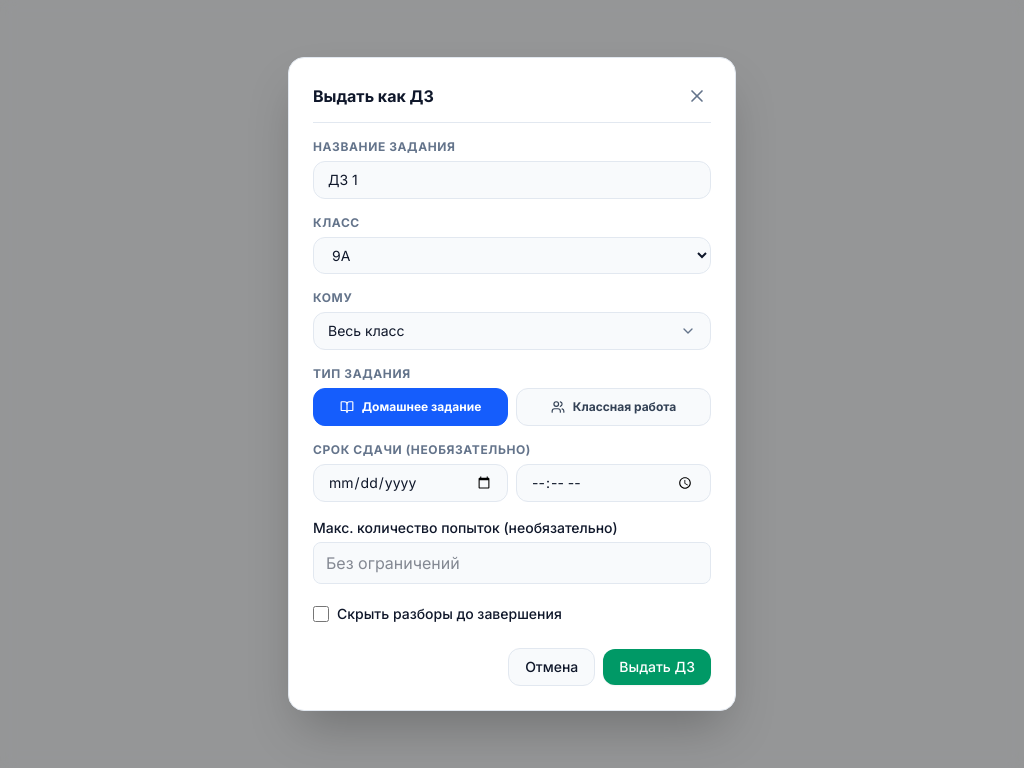
Test: AssignmentCreateModal — выбор получателей («Кому») › чекбокс «Все» снимает и ставит выбор со всех; когда никого не выбрано, кнопка блокируется и видна подсказка
Step 1. Click the button "Весь класс" → [366, 330], box [313,312,711,350]
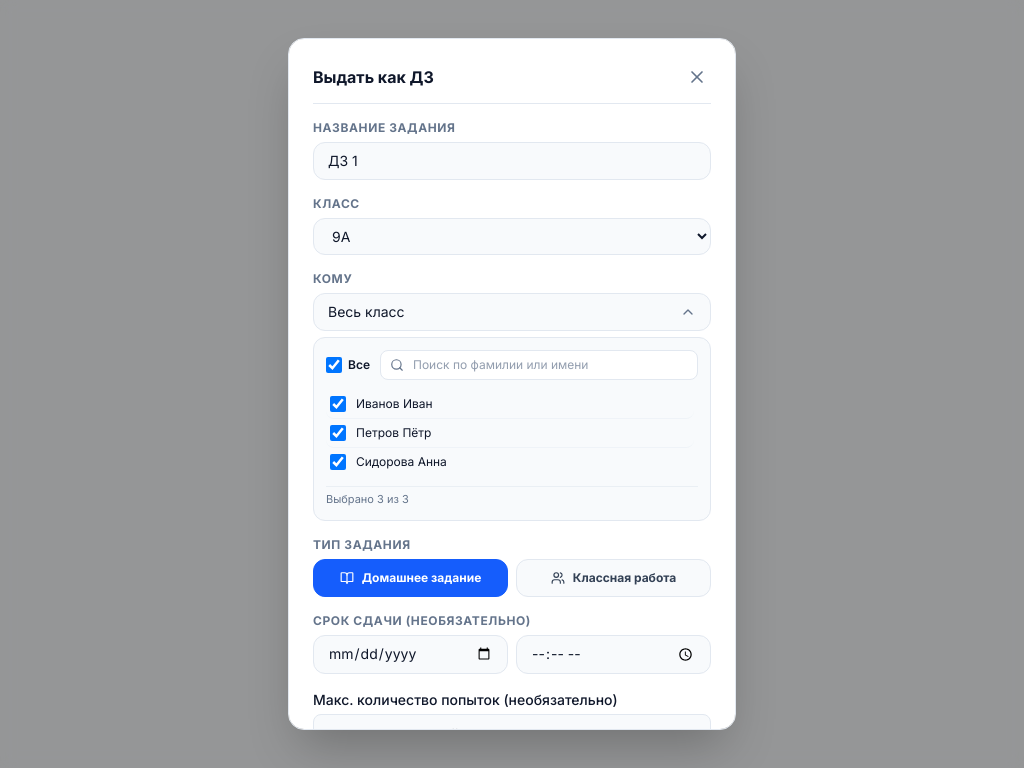
Expected: the checkbox labelled "Все" is checked
Note: Снимаем со всех
Step 2. Click the checkbox labelled "Все" → [334, 365], box [326,357,342,373]
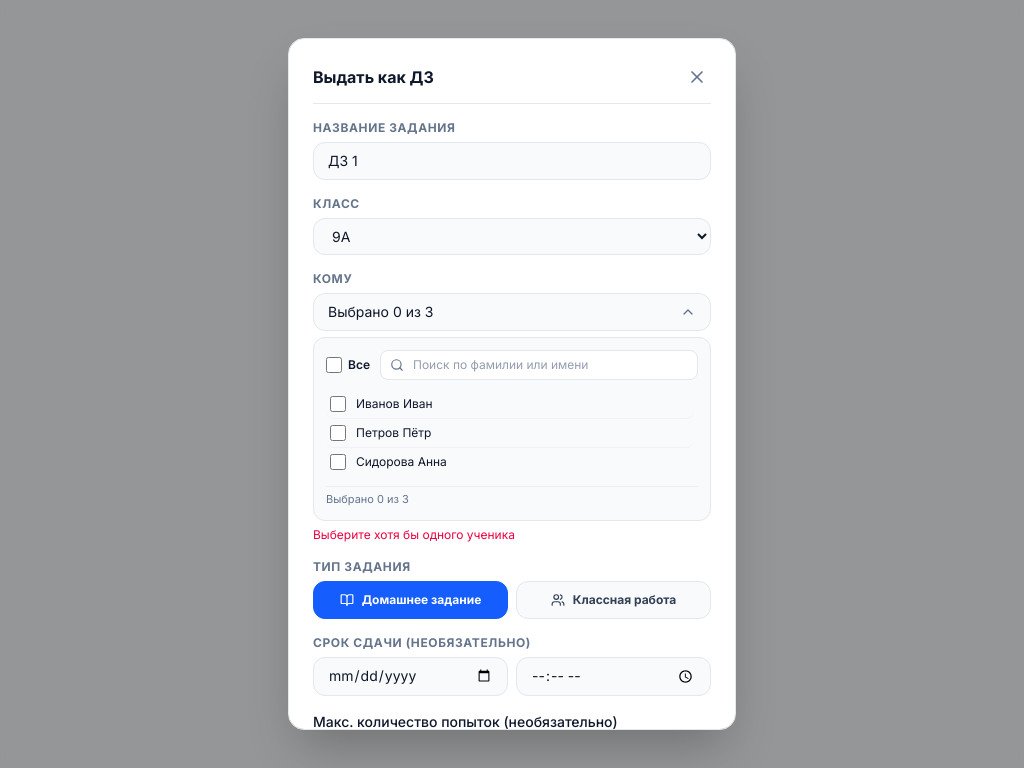
Expected: the checkbox labelled "Все" is not checked
Expected: the checkbox labelled "Иванов Иван" is not checked, [330,396,346,412]
Expected: the checkbox labelled "Петров Пётр" is not checked, [330,425,346,441]
Note: Ставим обратно всем
Step 3. Click the checkbox labelled "Все" → [334, 365], box [326,357,342,373]
(page scrolled)
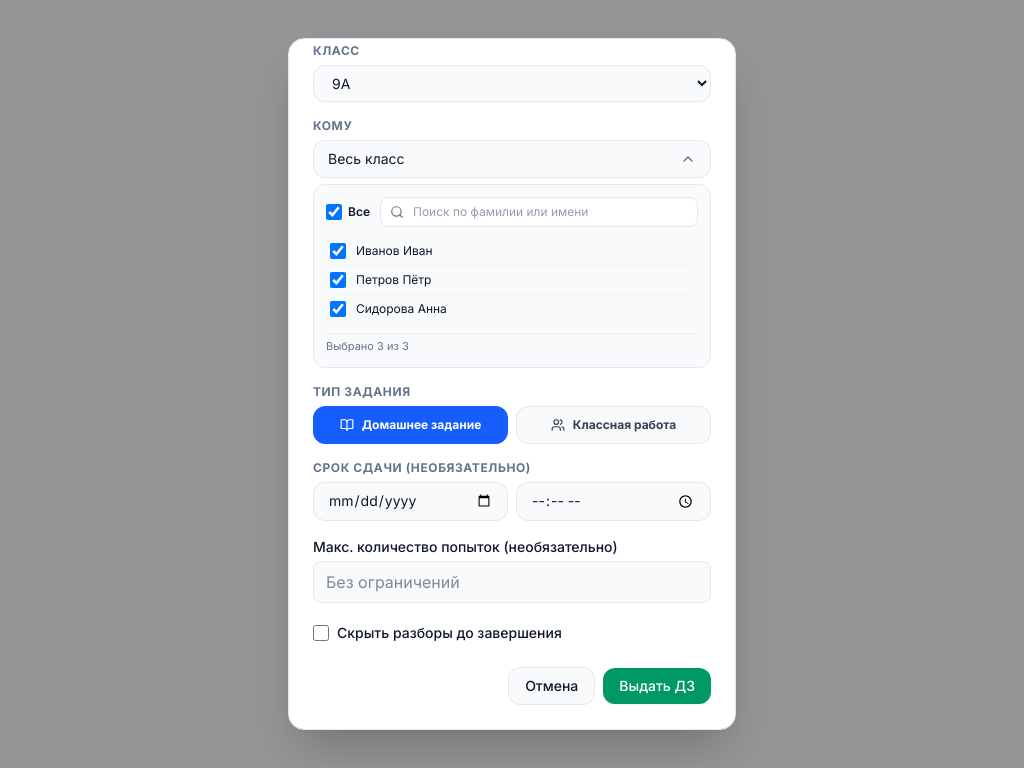
Expected: the checkbox labelled "Все" is checked, [326,204,342,220]
Expected: the checkbox labelled "Иванов Иван" is checked, [330,243,346,259]
Expected: the button "Выдать ДЗ" is enabled, [603,668,711,704]
